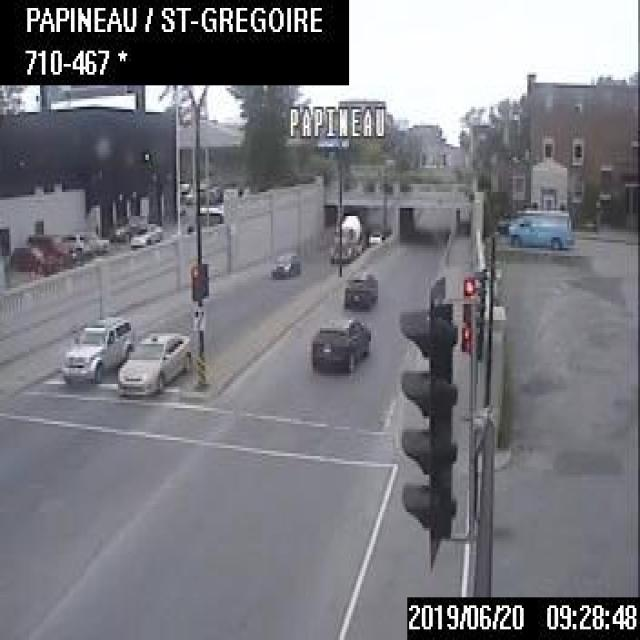vehicle: (117, 327, 192, 398), (59, 317, 130, 384), (309, 310, 373, 374), (503, 206, 573, 248), (329, 208, 363, 264), (30, 231, 72, 269), (10, 243, 58, 276), (342, 264, 378, 307), (50, 230, 86, 259), (128, 220, 162, 249), (269, 251, 300, 280), (78, 228, 107, 258), (366, 228, 385, 245)
